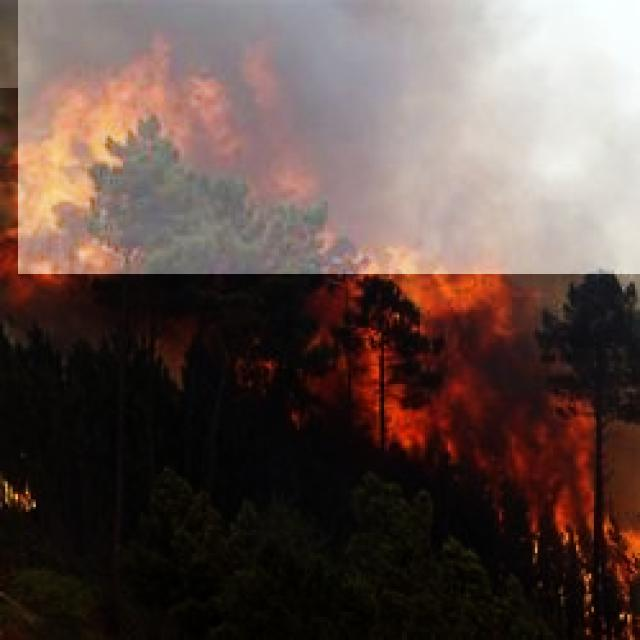Fire: (0, 88, 640, 640)
Smoke: (18, 0, 640, 274)
